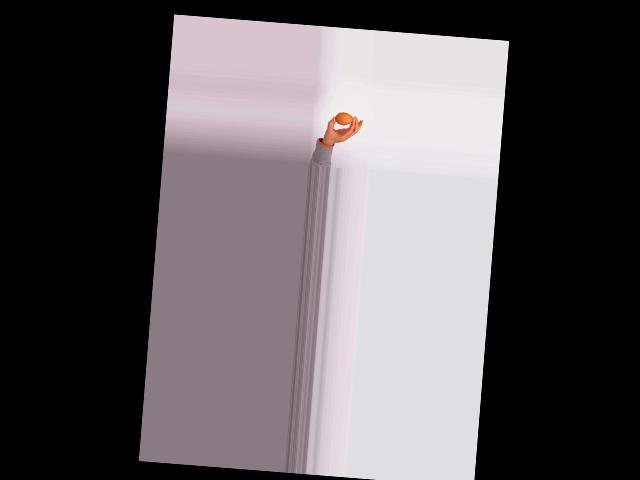egg: (335, 111, 353, 125)
